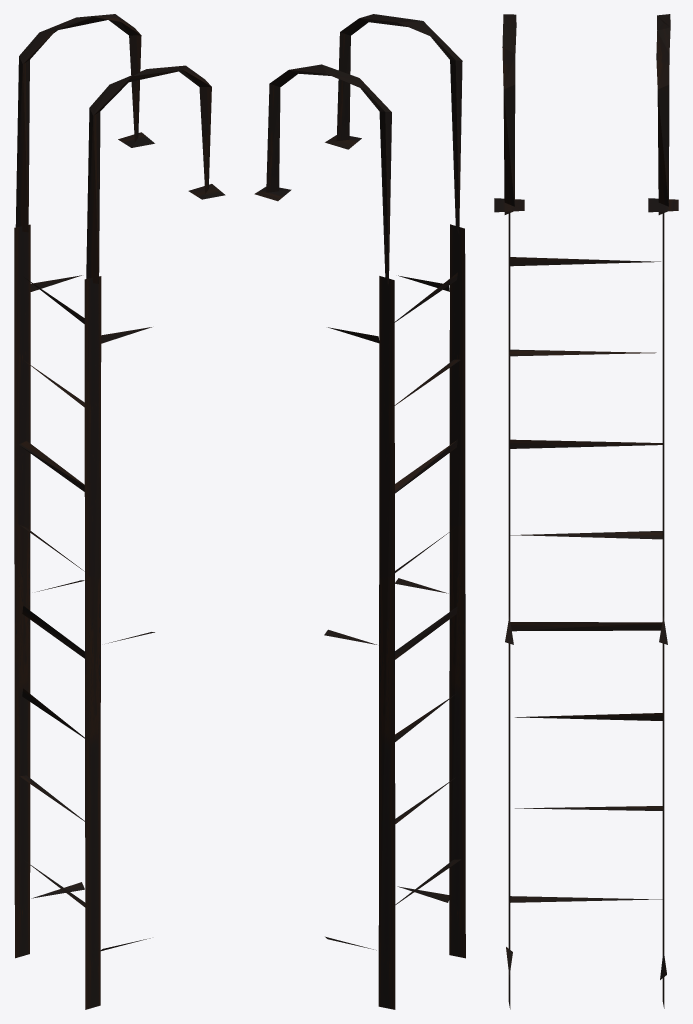
Rendered from SM_Banchina_Scaletta_LOD2.fbx.
3 views of the same model, side by side, from view 1: azimuth 30°, elevation 25°; view 2: azimuth 150°, elevation 25°; view 3: azimuth 270°, elevation 25° (orthographic). The views are drawn at different scales.
Visible parts, largest first — view 1: SM_Banchina_Scaletta_LOD2; view 2: SM_Banchina_Scaletta_LOD2; view 3: SM_Banchina_Scaletta_LOD2.
Part boxes in pixels (box(x1,y1,x2,y2)): SM_Banchina_Scaletta_LOD2: box(14, 14, 225, 1009); SM_Banchina_Scaletta_LOD2: box(254, 14, 465, 1009); SM_Banchina_Scaletta_LOD2: box(494, 14, 678, 1009).
Bounding box in the file's own units: 50.5 × 55 × 333.
Materials: 1 (1 with a texture image).
